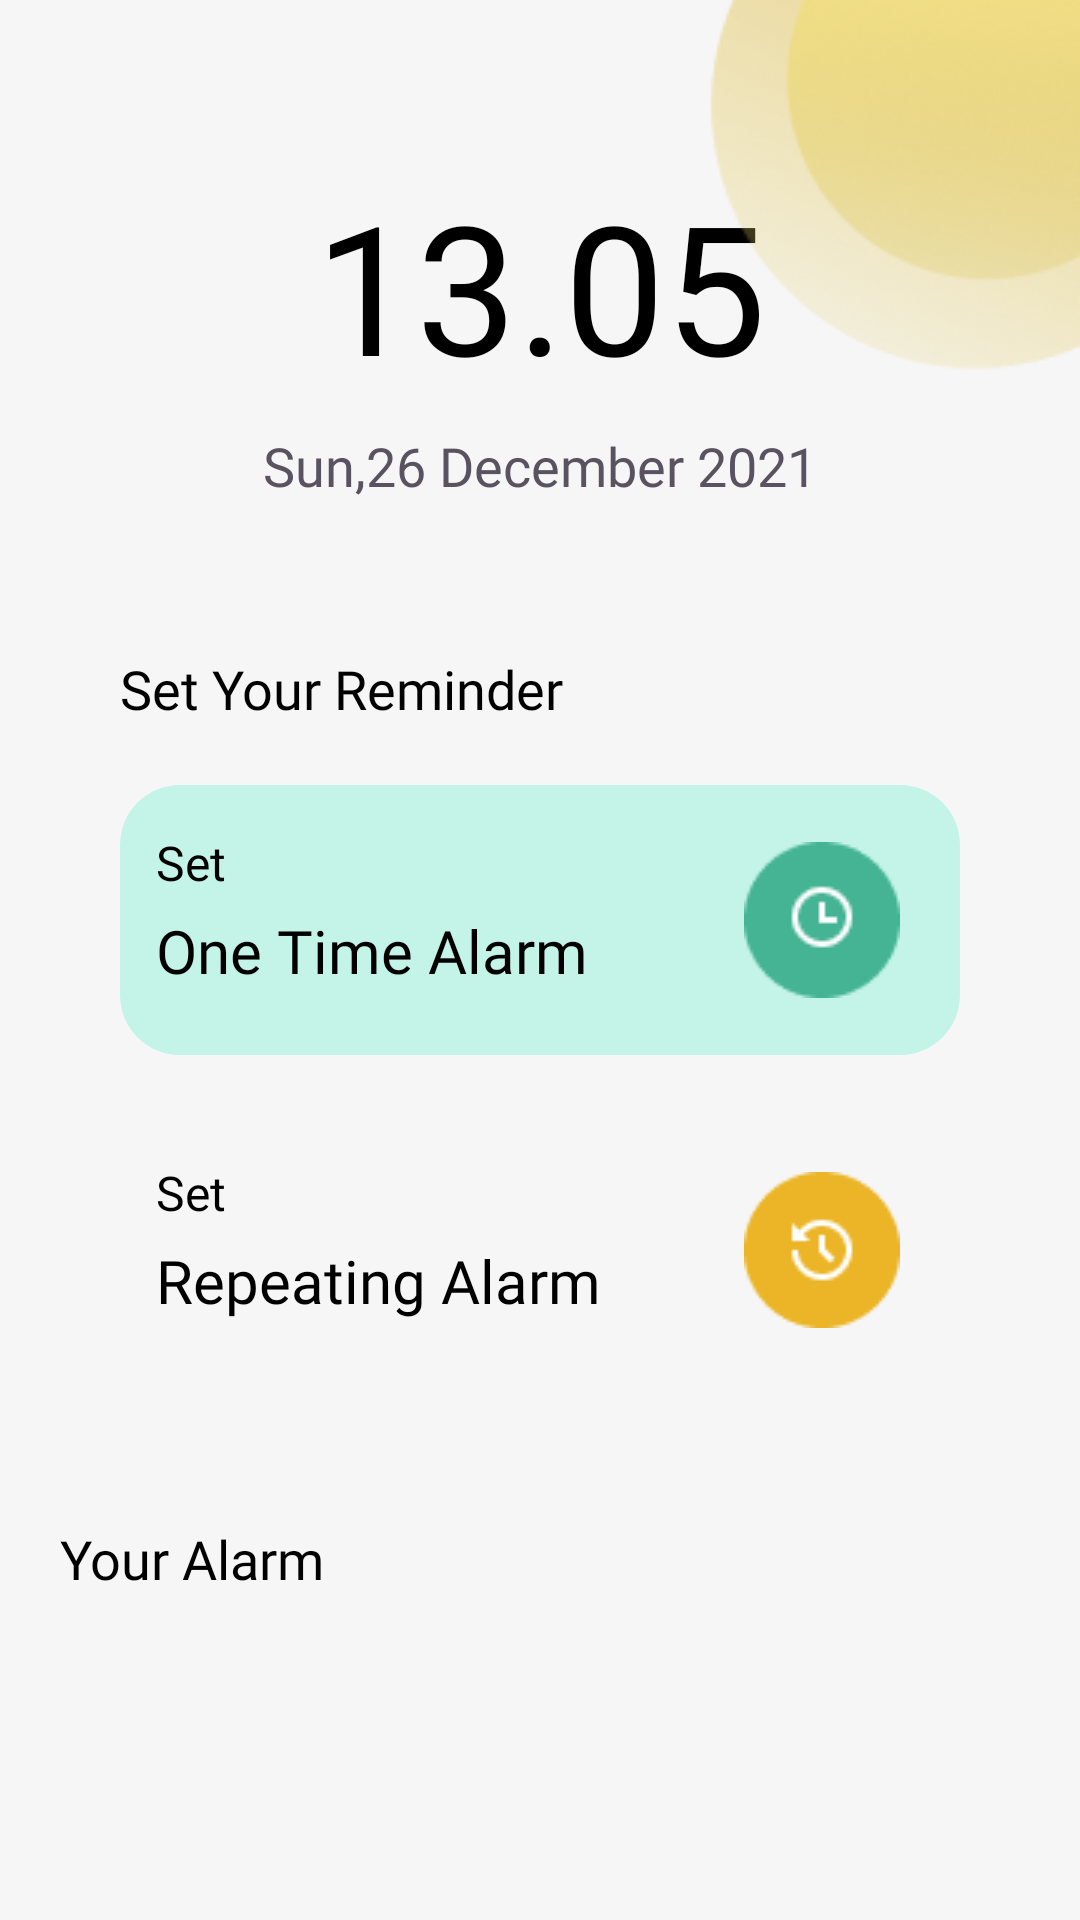

Where to tap for icons on this 1080w x 1920h app screen, as [x,y]:
one time: [822,920]
